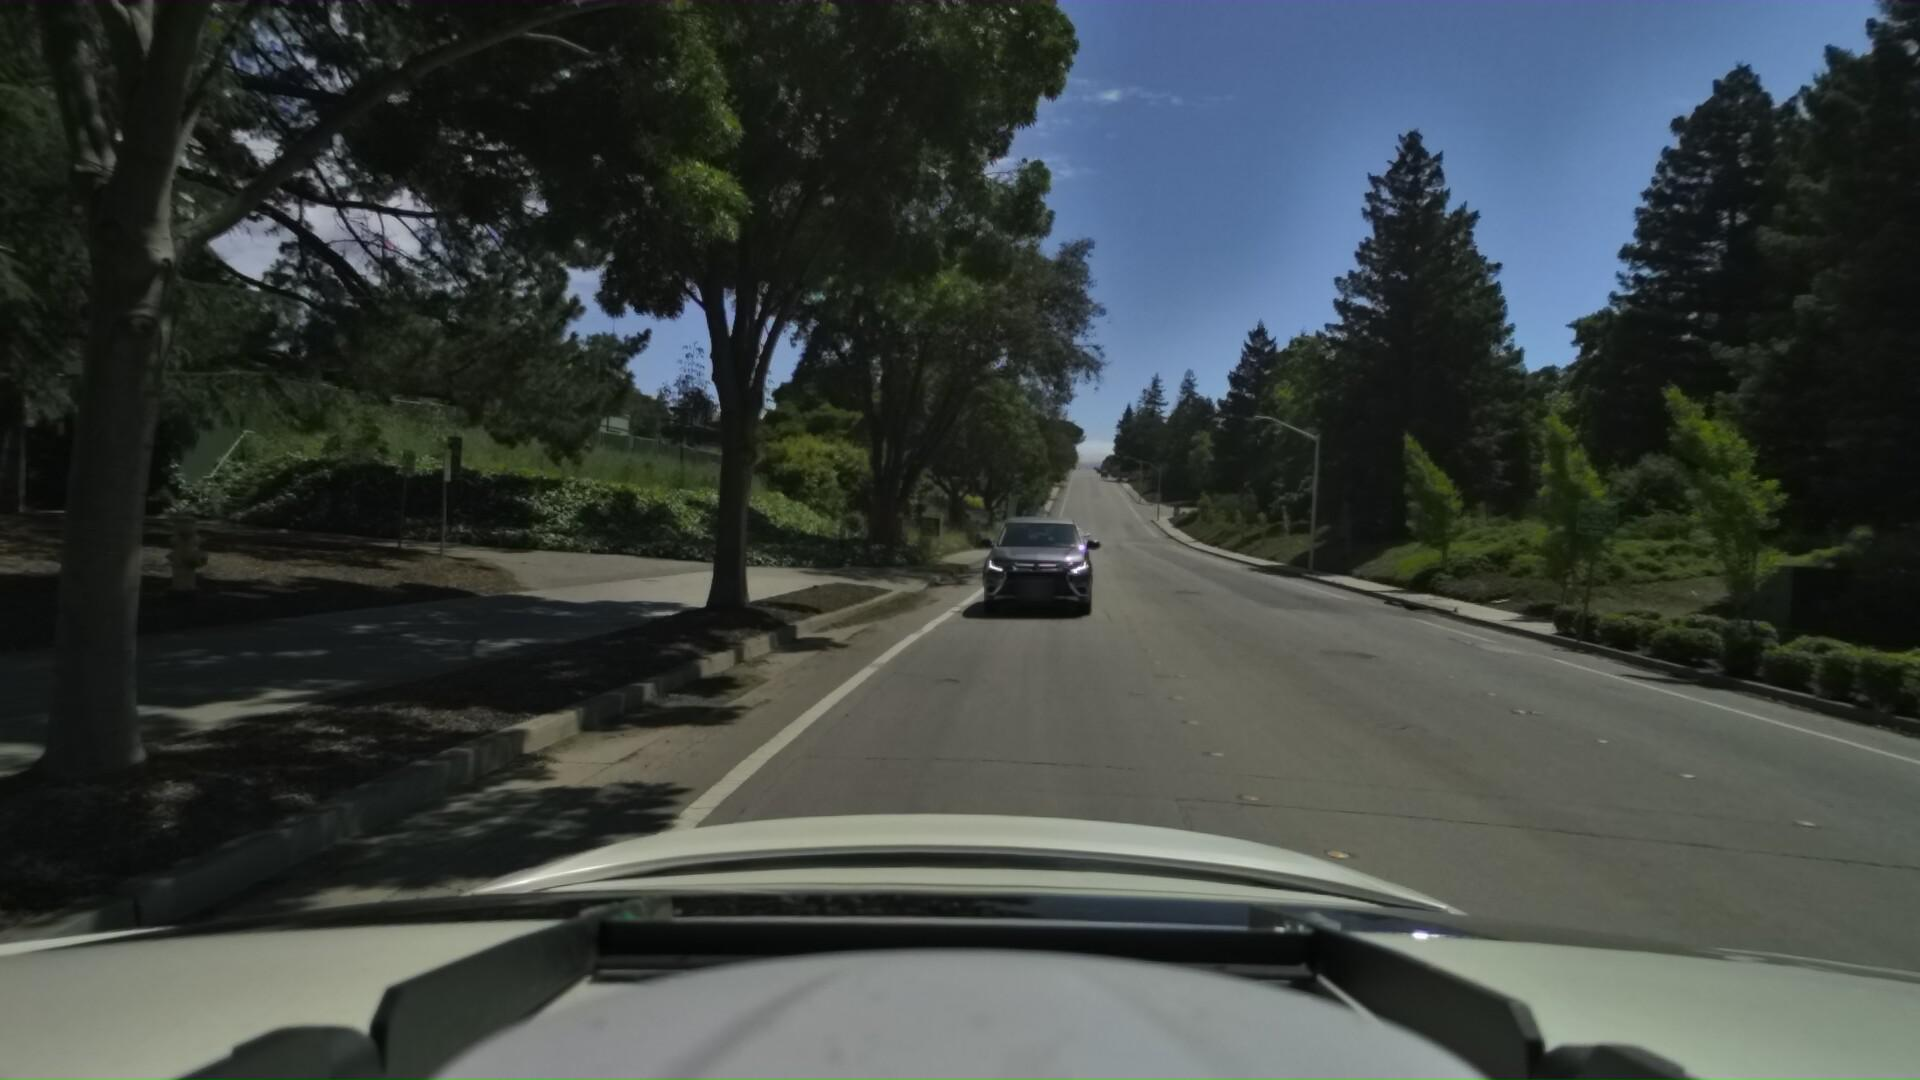car: (982, 498, 1101, 611), (1042, 506, 1095, 554)
